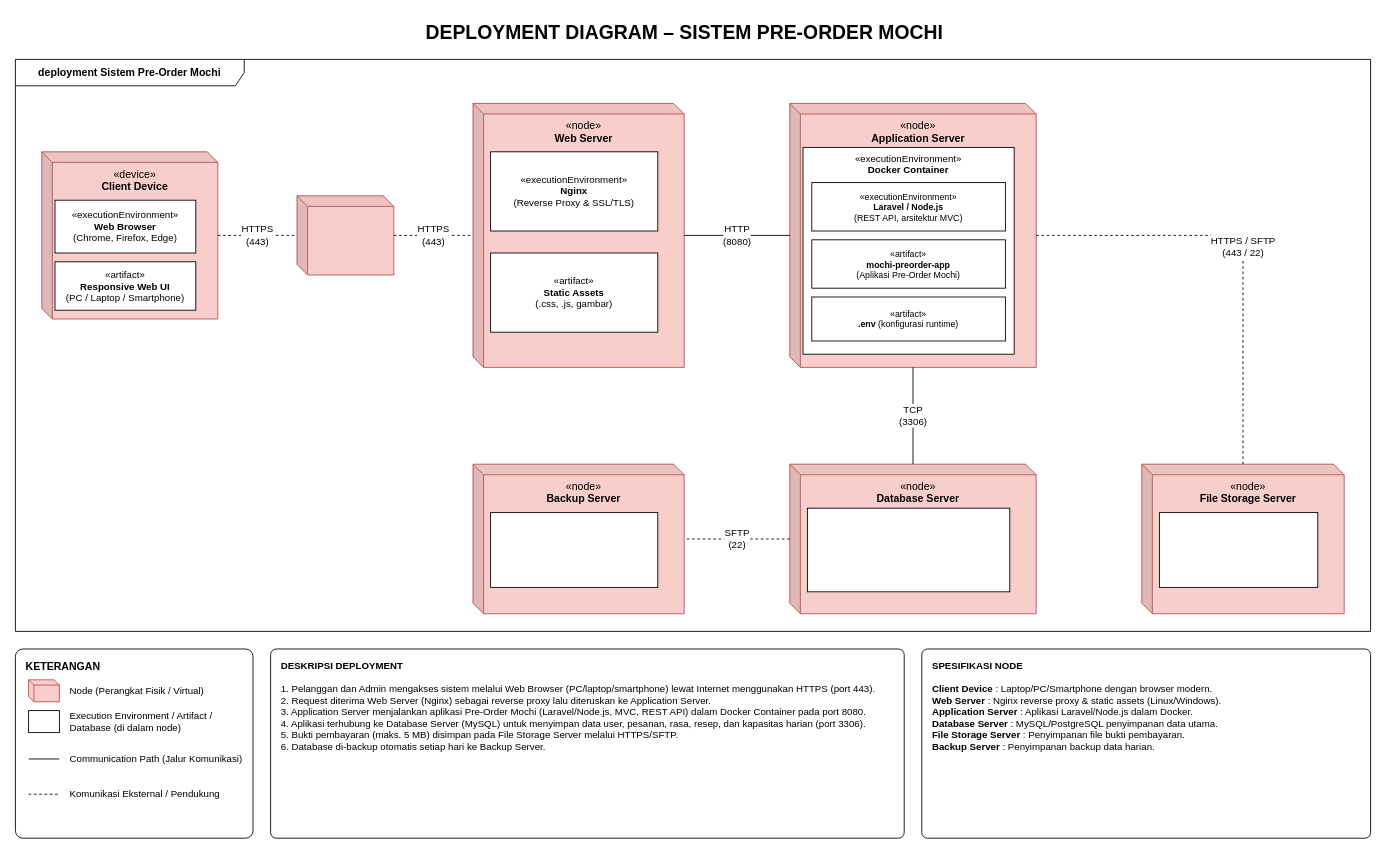
This 1386x854 diagram has some shape labels left out. The centre of each missing label's shape, as x and y in pixels:
«artifact» backup-harian.sql (Backup otomatis harian): the point at 574,549
«artifact» Bukti Pembayaran (Upload, maks. 5 MB): the point at 1238,549
«database» MySQL / PostgreSQL (User, Pesanan, Rasa, Resep, Kapasitas Harian): the point at 908,549
«node» Internet: the point at 345,235
